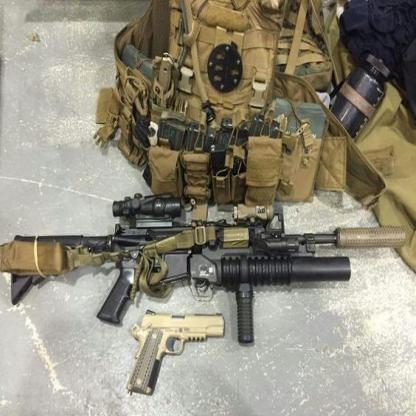Grenade: (330, 53, 390, 142)
Gun: (1, 192, 407, 347)
Pistol: (127, 309, 226, 396)
